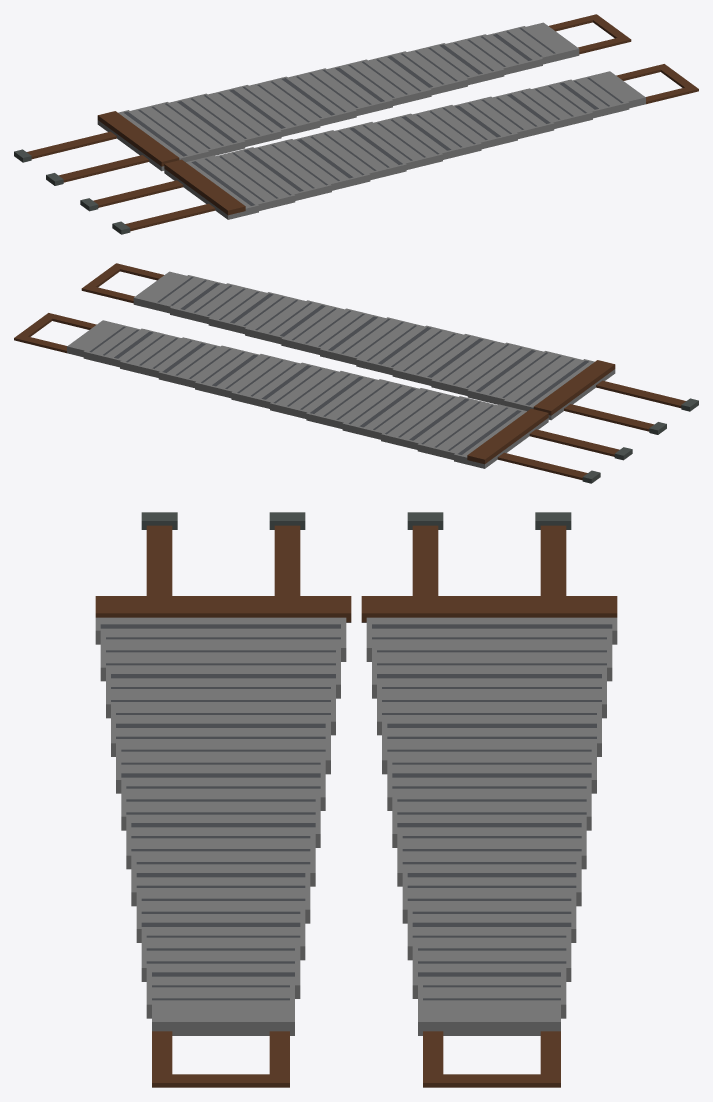
Rendered from chainmail_leggings.glb.
3 renders of one model, top to bottom at view 1: azimuth 30°, elevation 25°; view 2: azimuth 150°, elevation 25°; view 3: azimuth 270°, elevation 25°, orthographic. The views are drawn at different scales.
Visible parts, largest first — view 1: chainmail_leggings:compound; view 2: chainmail_leggings:compound; view 3: chainmail_leggings:compound.
Boxes of the visible parts, x1,y1,x2,y2 form: chainmail_leggings:compound: (14, 14, 698, 234); chainmail_leggings:compound: (14, 263, 698, 483); chainmail_leggings:compound: (95, 512, 617, 1087).
Bounding box in the file's own units: 1.05 × 0.016 × 0.408.
